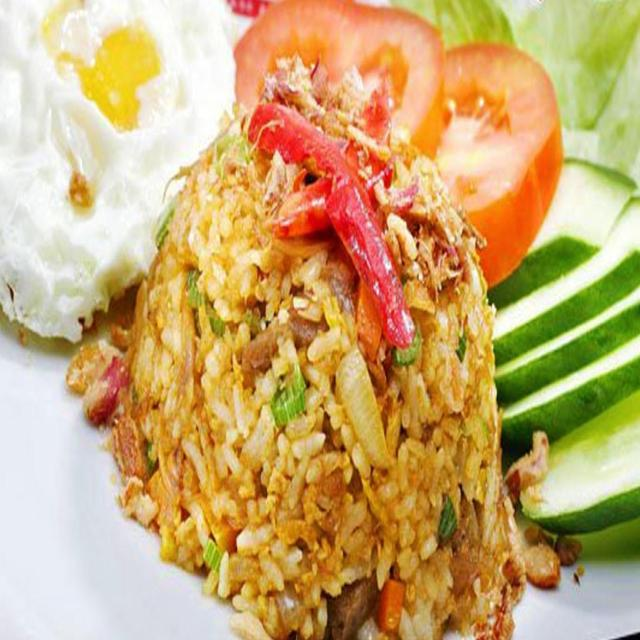Nasi Goreng: (150, 121, 494, 592)
